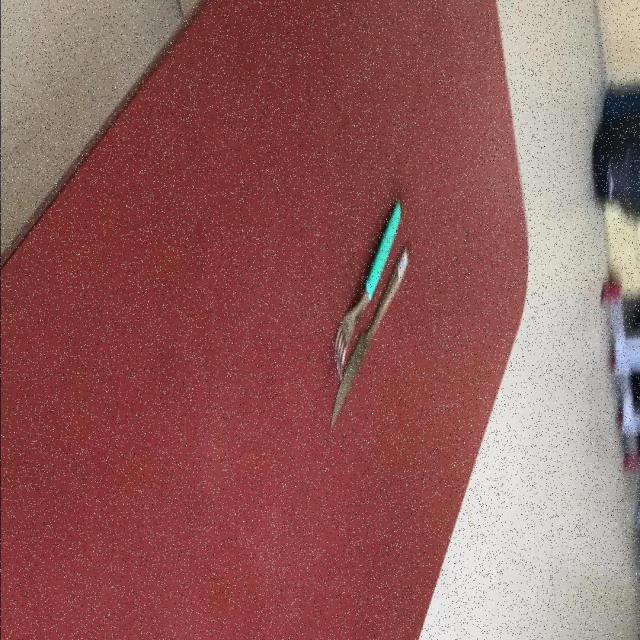Fork: (333, 201, 402, 380)
Knife: (329, 248, 410, 434)
